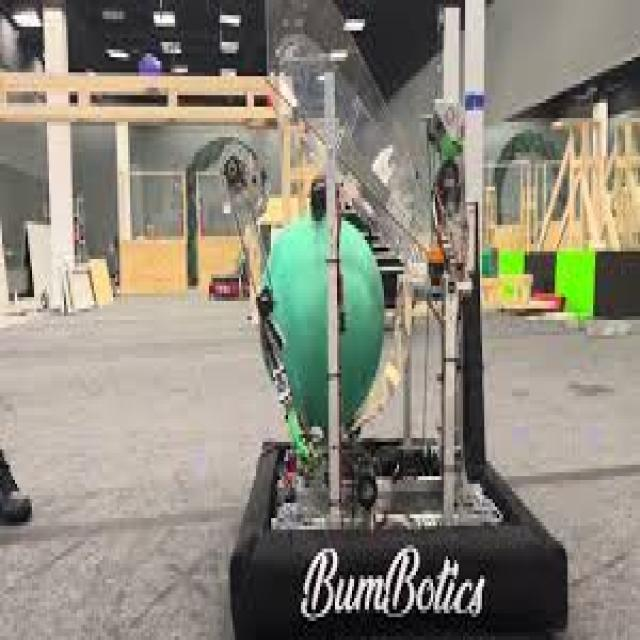algae: (258, 190, 405, 450)
